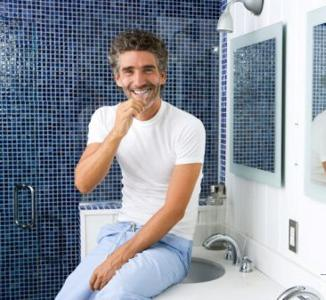person: (71, 31, 205, 299)
